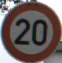20 km speed: (1, 1, 62, 62)
